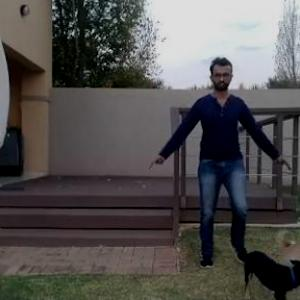land: (160, 62, 276, 262)
